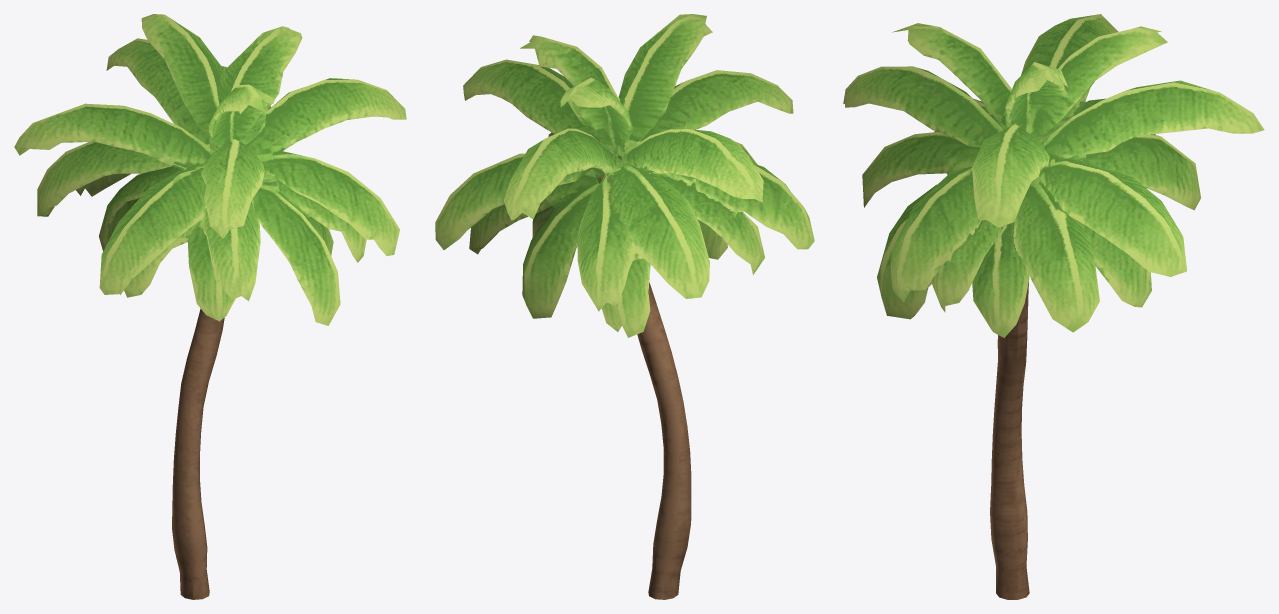
File: palm_b.glb
The picture shows the model from 3 angles, left to right: view 1: azimuth 30°, elevation 25°; view 2: azimuth 150°, elevation 25°; view 3: azimuth 270°, elevation 25°; orthographic projection. The views are drawn at different scales.
Visible parts, largest first — view 1: body; view 2: body; view 3: body.
Part boxes in pixels (x1,y1,x2,y2): body: [14, 14, 406, 599]; body: [435, 14, 814, 599]; body: [843, 14, 1264, 599].
Size of the model in its own units: 4.4 by 6.54 by 4.31.
2 materials, 2 textured.
